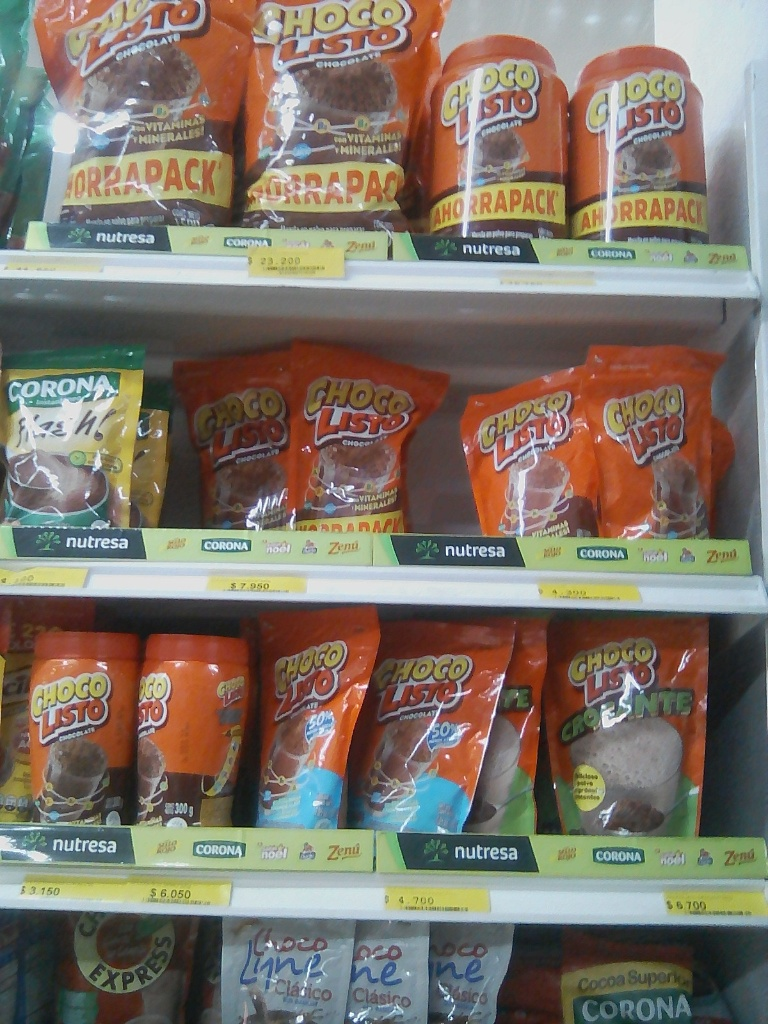COL0170102DYP25000: (548, 618, 712, 838)
COL0170103DYP1,500: (41, 5, 239, 226)
COL0170103DYP20000: (451, 357, 600, 539)
COL0170103DYP36000: (287, 346, 441, 539)
COL0170103TRR00100: (437, 31, 574, 239)
COL0170103TRR30000: (22, 623, 136, 825)
COL0170104DYP20000: (247, 601, 355, 832)
